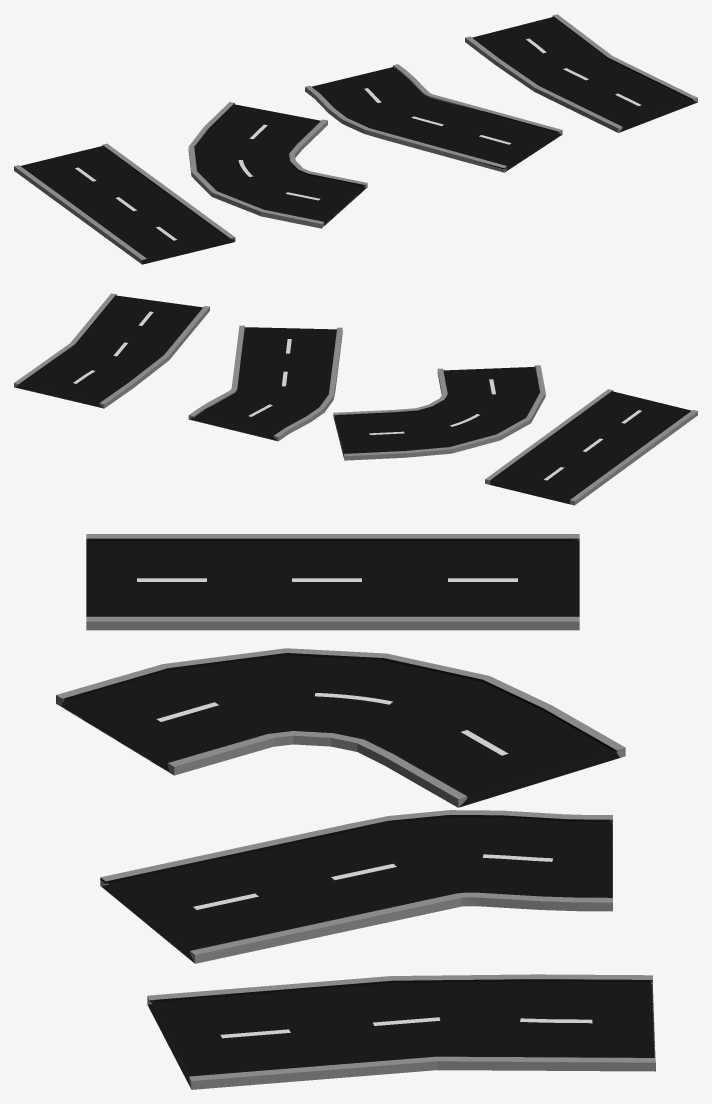
Rendered from ROADS.fbx.
The picture shows the model from 3 angles, top to bottom: view 1: azimuth 30°, elevation 25°; view 2: azimuth 150°, elevation 25°; view 3: azimuth 270°, elevation 25°; orthographic projection. The views are drawn at different scales.
Parts seen in each view (by area): view 1: Road.002, Road.001, Road, Road.003; view 2: Road.002, Road, Road.001, Road.003; view 3: Road.002, Road.001, Road, Road.003.
Part boxes in pixels (x1,y1,x2,y2): Road.002: (188, 102, 367, 228); Road.001: (305, 64, 562, 172); Road: (14, 143, 235, 264); Road.003: (465, 14, 697, 132); Road.002: (333, 365, 545, 460); Road: (485, 389, 697, 505); Road.001: (188, 325, 342, 441); Road.003: (14, 293, 209, 408); Road.002: (56, 648, 625, 807); Road.001: (100, 810, 612, 963); Road: (86, 534, 579, 630); Road.003: (147, 974, 655, 1089).
Bounding box in the file's own units: 1403 × 10.52 × 650.
Materials: 4 (4 with a texture image).
